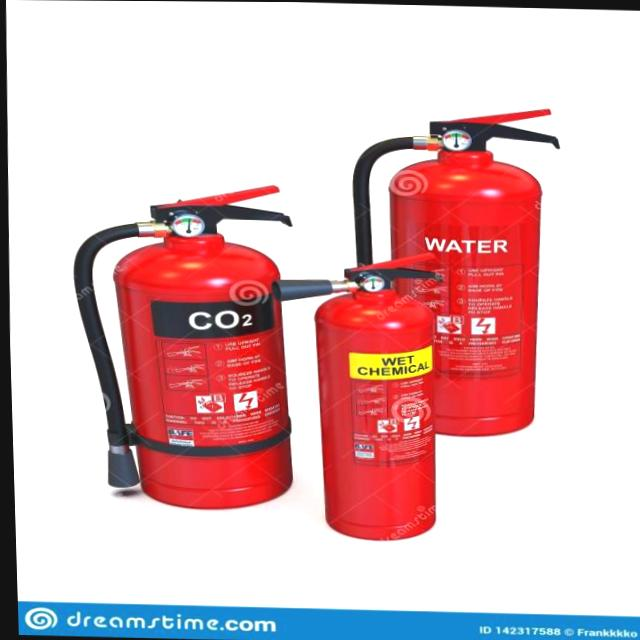FireExtinguisher: (325, 94, 577, 447), (58, 176, 300, 517), (259, 244, 458, 545)
